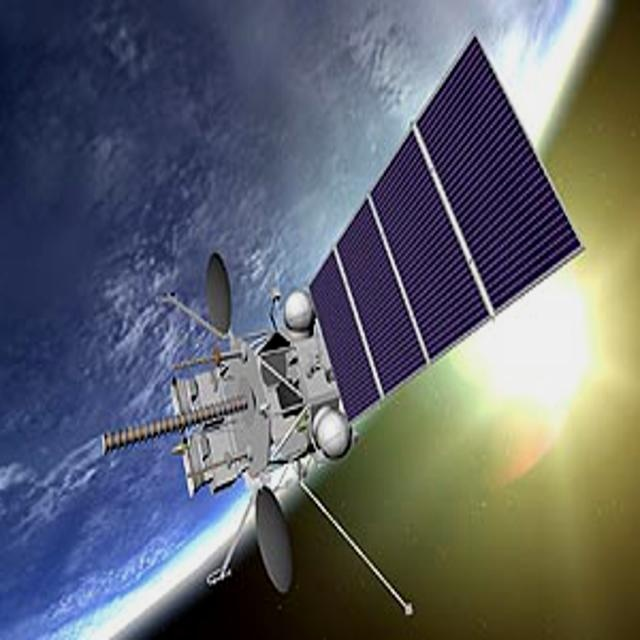medium_debris: (95, 19, 586, 618)
